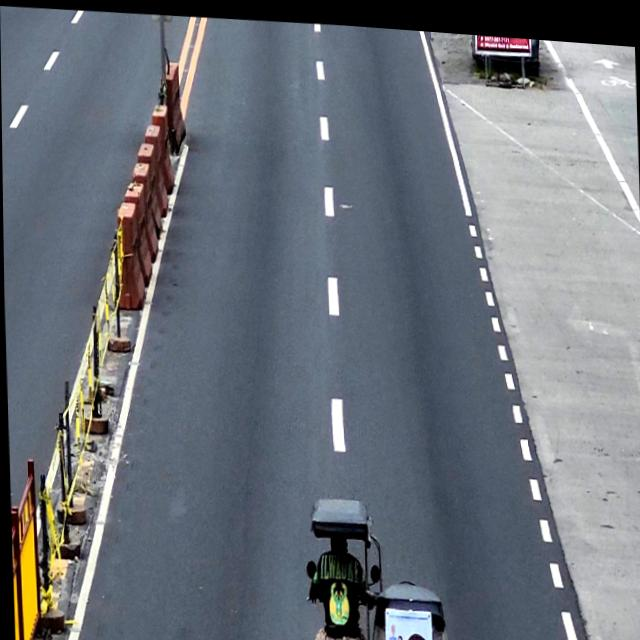Tricycle: (301, 488, 453, 640)
